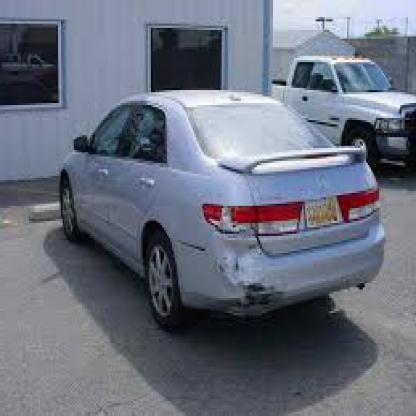dent: (215, 245, 246, 285)
